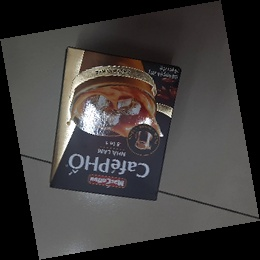CF pho: (46, 44, 182, 201)
